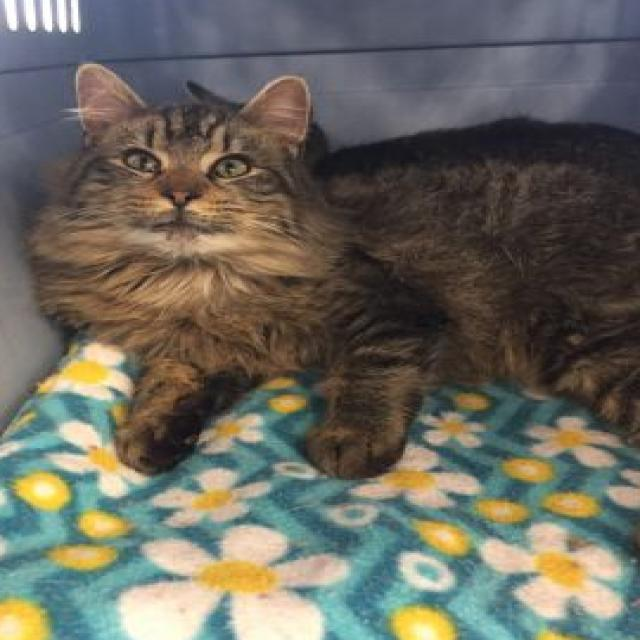Maine Coon: (21, 53, 640, 580)
